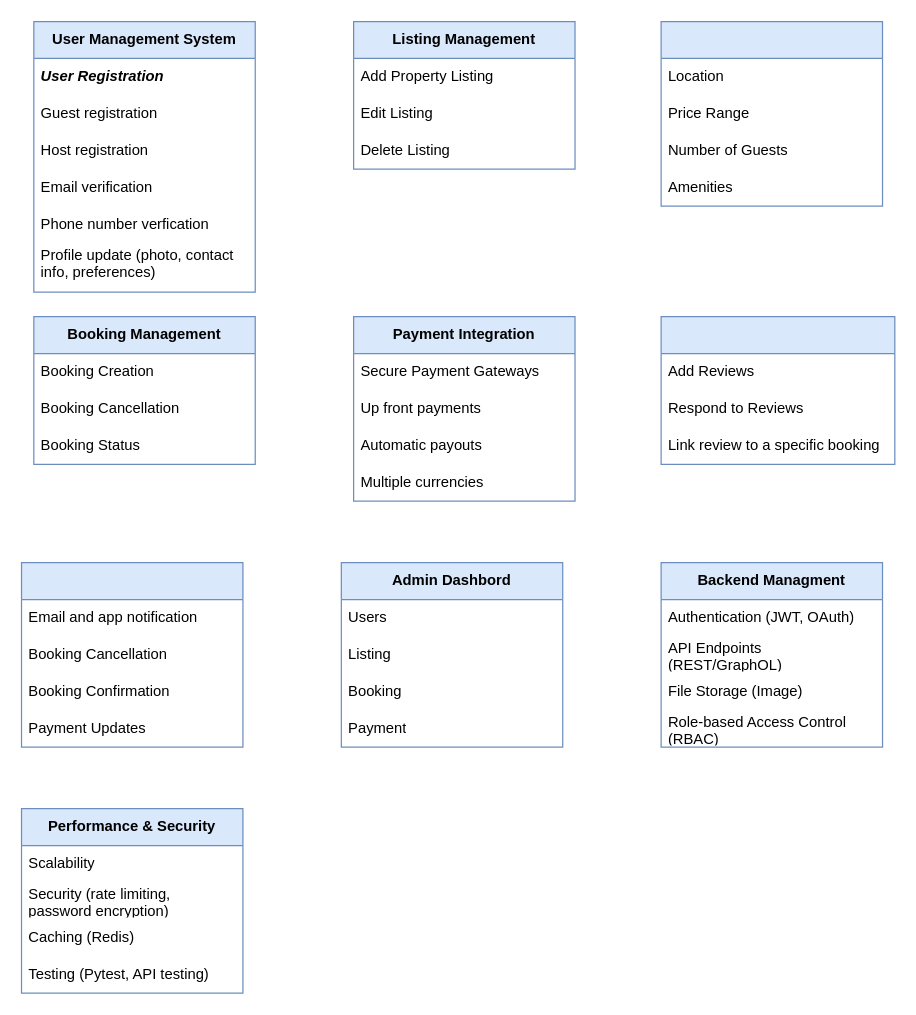
Some shapes in this 916 by 1015 pixel diagram are drawn without their labels. Each missing label, with the box of its shape:
Notifications System: (20, 561, 243, 747)
Reviews and Ratings: (660, 315, 895, 464)
Search and Filter: (660, 20, 883, 206)
